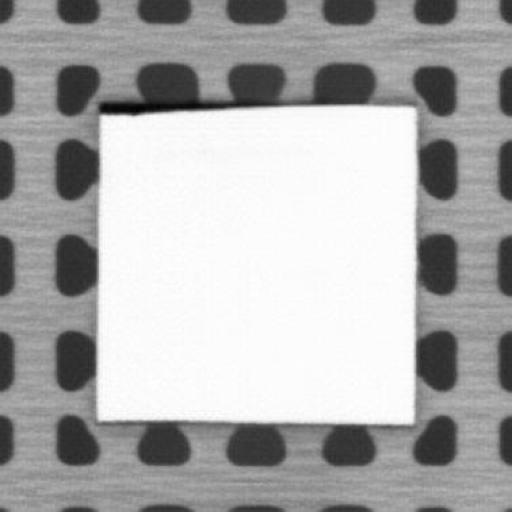DIE_BROKEN: (93, 96, 271, 117)
